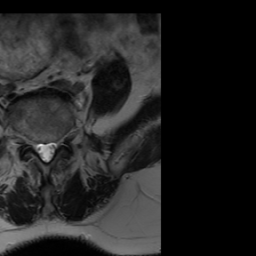CCS_normal: (41, 135, 49, 168)
LFS_stenosis: (56, 128, 64, 153)
LLS_normal: (49, 134, 56, 162)
RFS_normal: (26, 129, 34, 155)
RLS_normal: (34, 136, 41, 161)
